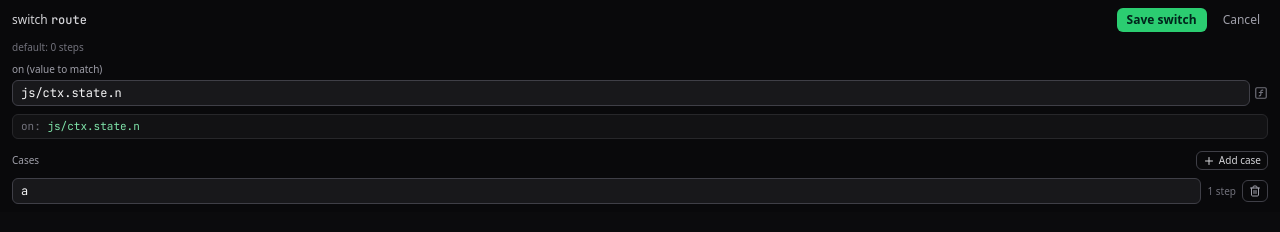
Scenario: SwitchEditor — structural save › requires at least one case
Click the button titled "Removing this case deletes" at {"x": 1255, "y": 191}, box x1=1242 y1=180 x2=1268 y2=202
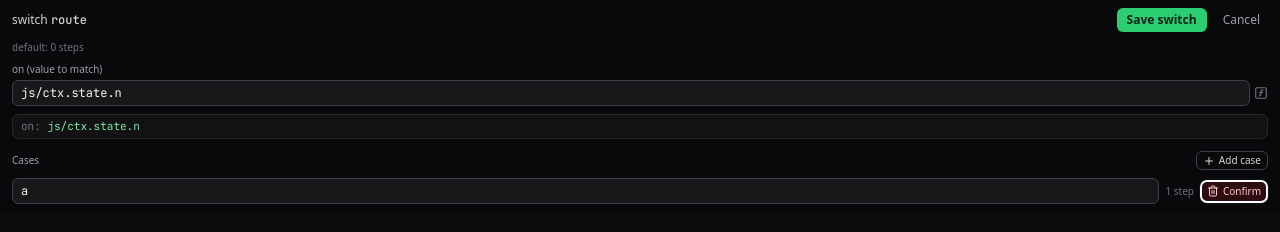
Click the button "Confirm" at {"x": 1234, "y": 191}, box x1=1200 y1=180 x2=1268 y2=203
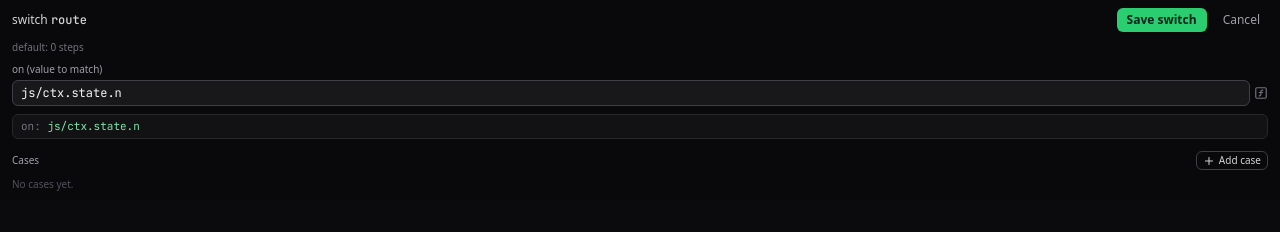
Click the button "Save switch" at {"x": 1162, "y": 20}, box x1=1117 y1=8 x2=1207 y2=32
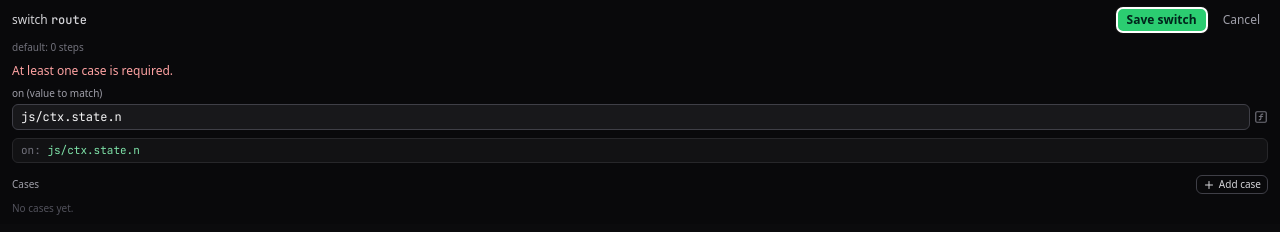
Now the text "At least one case is required." is shown, box x1=12 y1=62 x2=173 y2=79
